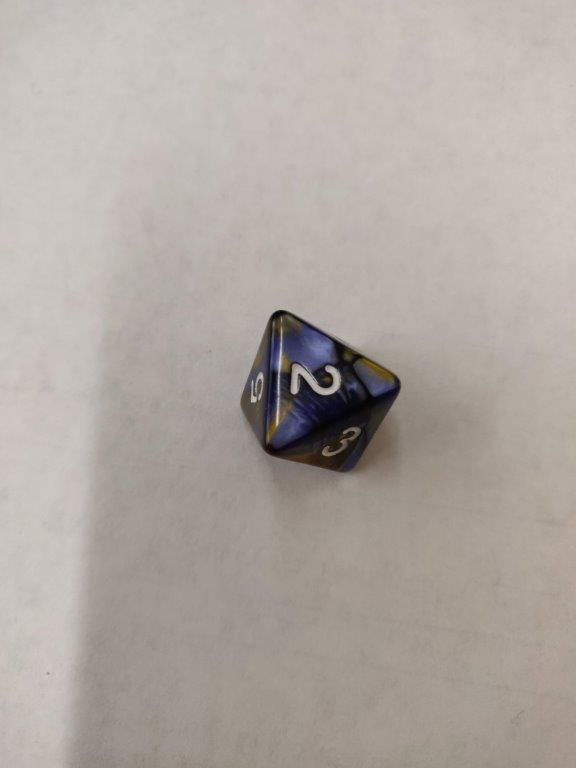d8-2: (243, 309, 403, 477)
